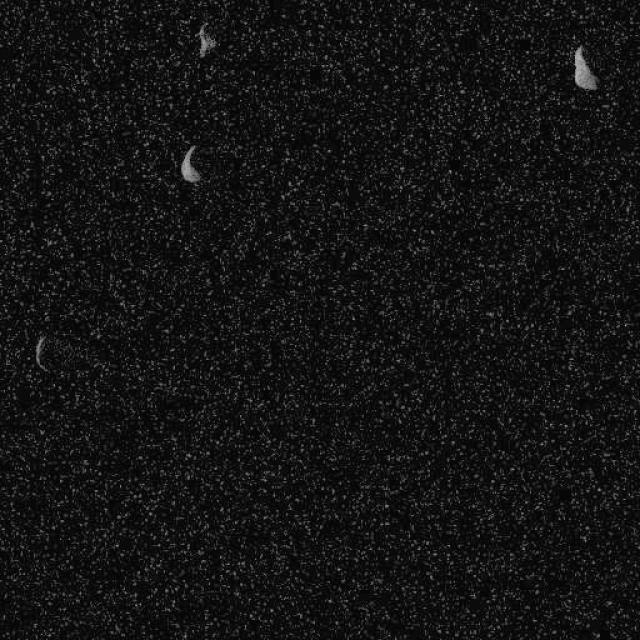D2: (572, 44, 598, 91), (179, 142, 201, 184), (195, 22, 217, 58), (34, 333, 50, 372)
